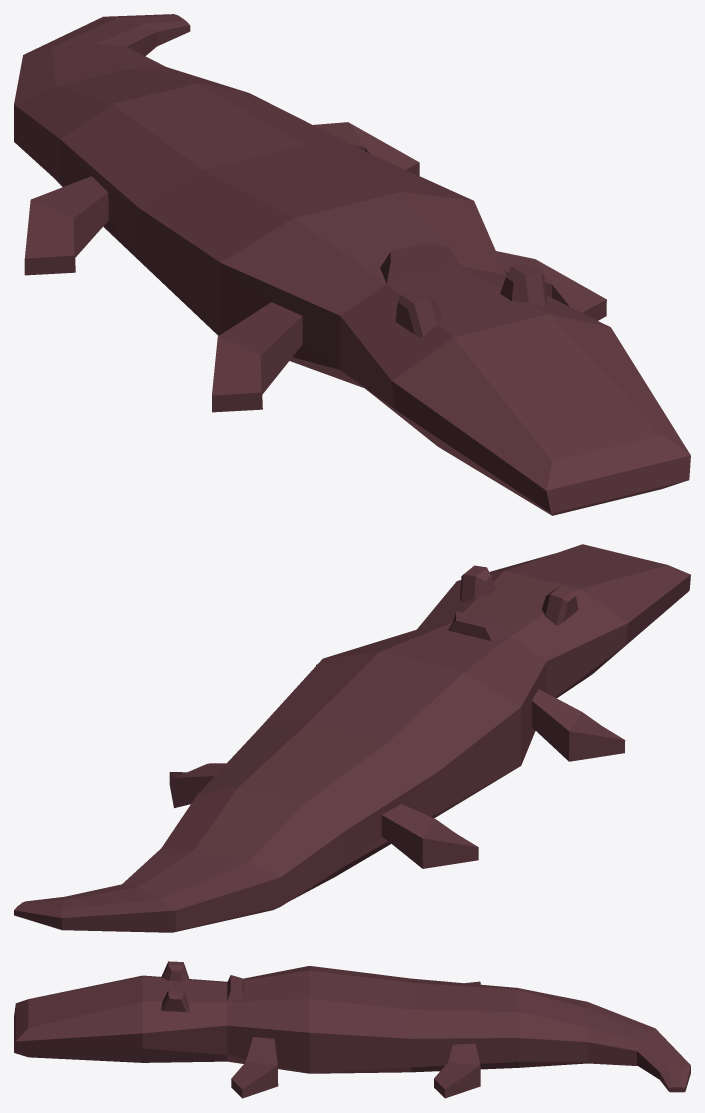
The model's file is inflatable-crocodile.fbx.
3 views of the same model, one above another, from view 1: azimuth 30°, elevation 25°; view 2: azimuth 150°, elevation 25°; view 3: azimuth 270°, elevation 25° (orthographic). The views are drawn at different scales.
Visible parts, largest first — view 1: inflatable-crocodile; view 2: inflatable-crocodile; view 3: inflatable-crocodile.
Part boxes in pixels (x1,y1,x2,y2): inflatable-crocodile: (14, 14, 690, 515); inflatable-crocodile: (14, 544, 690, 932); inflatable-crocodile: (14, 961, 690, 1098).
Bounding box in the file's own units: 0.7551 × 0.2328 × 2.07.
